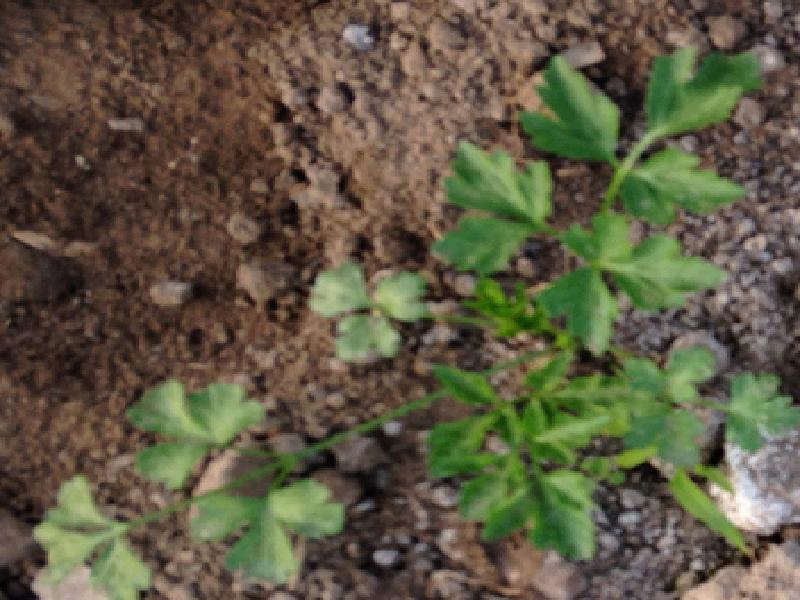radish: (85, 53, 768, 584)
